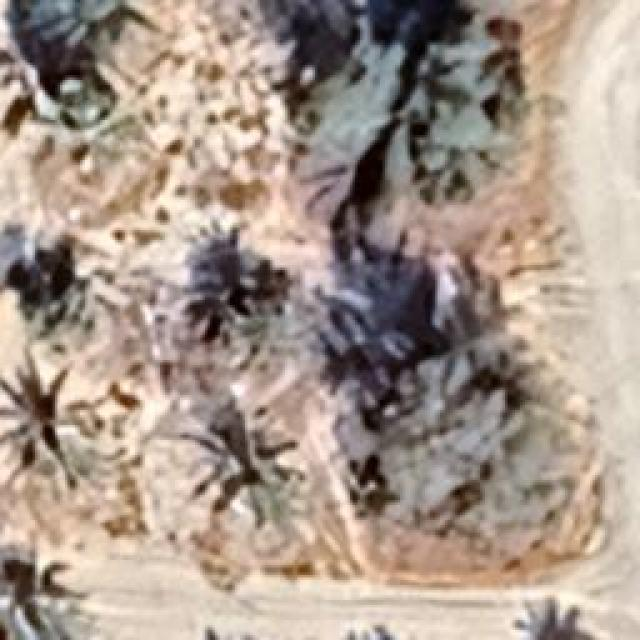PalmTree: (46, 27, 118, 298), (190, 410, 312, 535), (199, 248, 309, 366), (0, 362, 102, 467), (0, 554, 60, 638), (506, 598, 606, 640), (317, 626, 429, 640), (318, 628, 422, 640)
